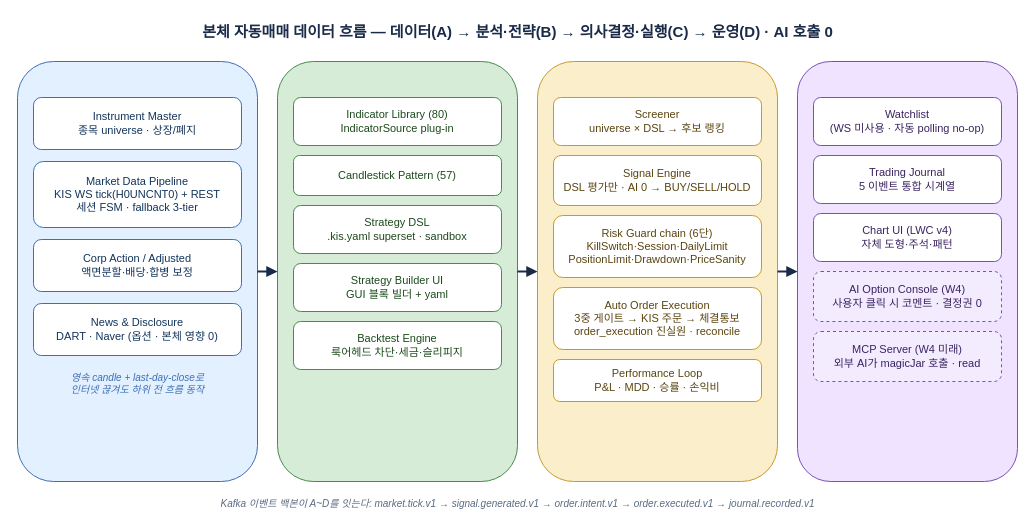
Some shapes in this 1035 by 532 pixel diagram are drawn without their labels. Each missing label, with the box of its shape:
A. 데이터 수집·정합: (16, 60, 258, 482)
B. 분석·전략: (276, 60, 518, 482)
C. 의사결정·실행: (536, 60, 778, 482)
D. 학습·운영·UI: (796, 60, 1018, 482)
